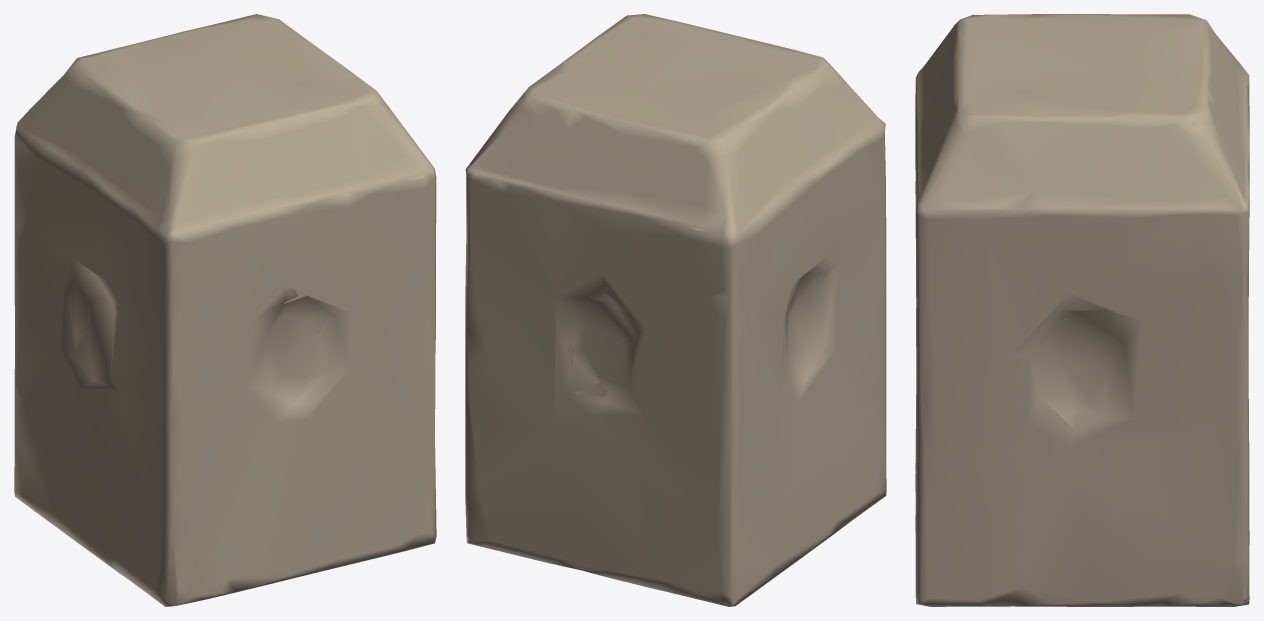
Rendered from gen3d-paper-envelope-lod0.glb.
The picture shows the model from 3 angles, left to right: view 1: azimuth 30°, elevation 25°; view 2: azimuth 150°, elevation 25°; view 3: azimuth 270°, elevation 25°; orthographic projection. The views are drawn at different scales.
Parts seen in each view (by area): view 1: part_0; view 2: part_0; view 3: part_0.
Boxes of the visible parts, x1,y1,x2,y2 form: part_0: [14, 14, 436, 606]; part_0: [465, 14, 886, 606]; part_0: [915, 14, 1249, 606].
Size of the model in its own units: 0.6432 by 1 by 0.6432.
